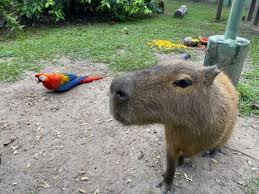capivara: (110, 53, 241, 194)
